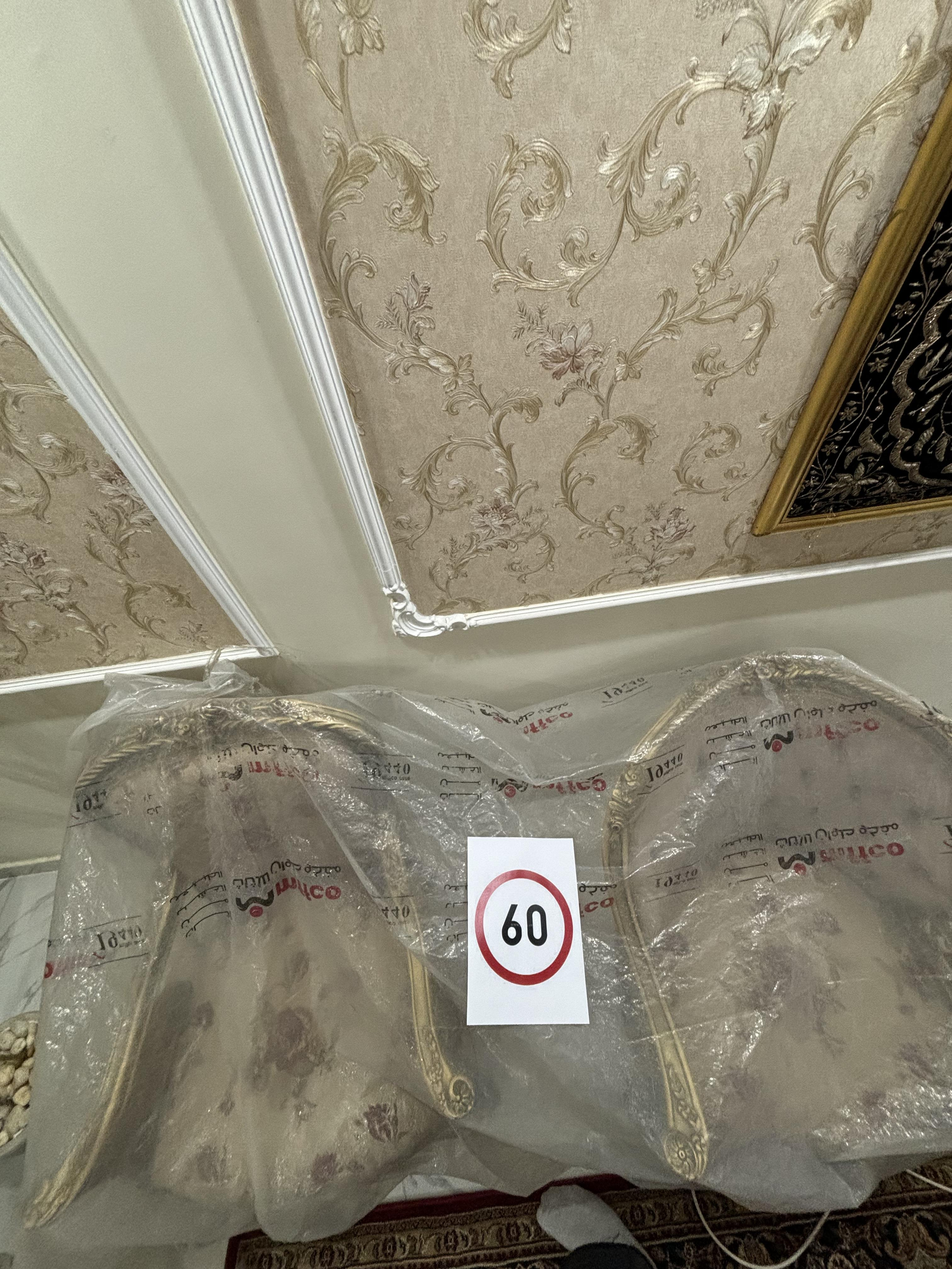60-Speed: (471, 866, 576, 988)
